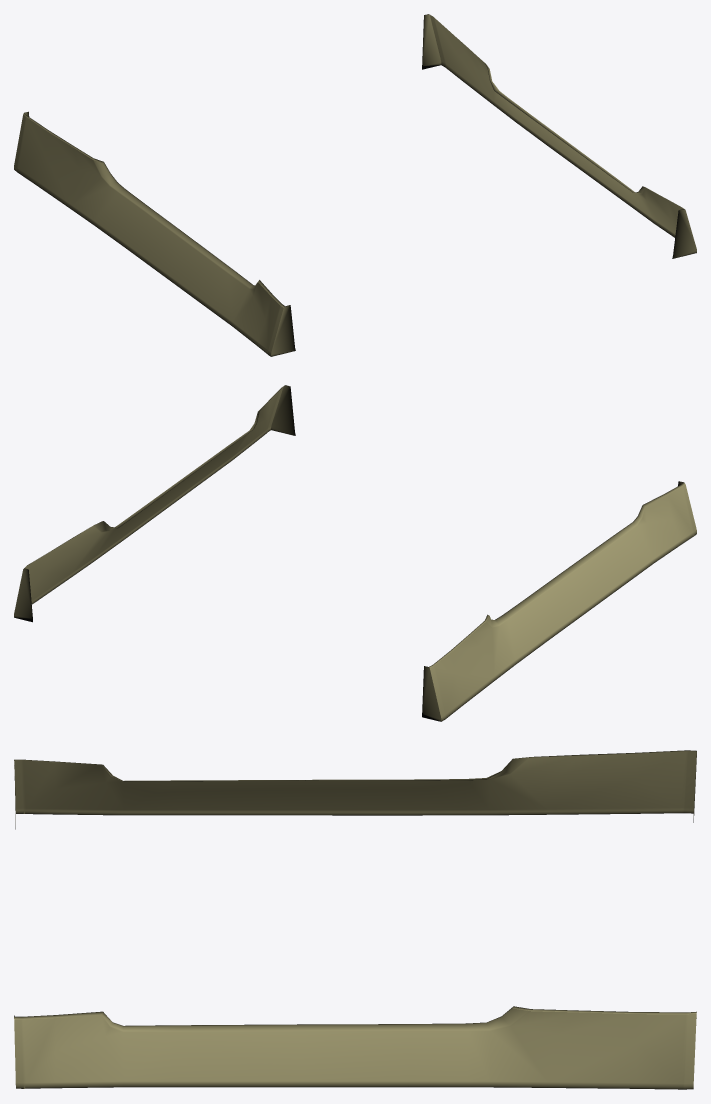
Rendered from R34_Skirt03_Duco.fbx.
3 views of the same model, one above another, from view 1: azimuth 30°, elevation 25°; view 2: azimuth 150°, elevation 25°; view 3: azimuth 270°, elevation 25° (orthographic). The views are drawn at different scales.
Parts seen in each view (by area): view 1: R34_Skirt03_Duco; view 2: R34_Skirt03_Duco; view 3: R34_Skirt03_Duco.
Boxes of the visible parts, x1,y1,x2,y2 form: R34_Skirt03_Duco: (14,14,696,356); R34_Skirt03_Duco: (14,385,696,721); R34_Skirt03_Duco: (14,750,696,1089).
Size of the model in its own units: 185 by 21.81 by 193.
